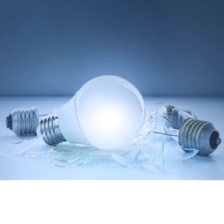light_bulb: (32, 71, 149, 153), (104, 77, 203, 140), (127, 100, 222, 157), (2, 89, 96, 139)
